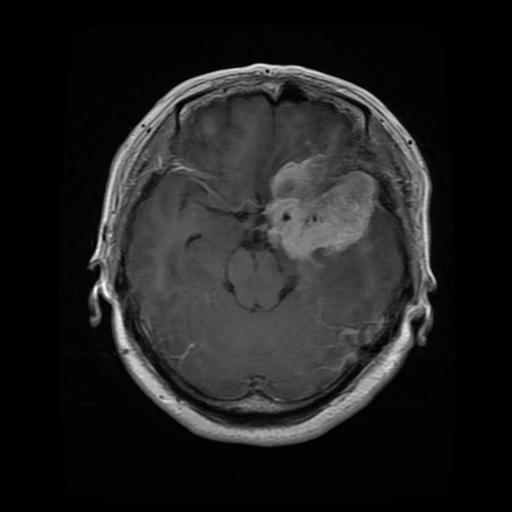Menigiomia_tumour: (264, 153, 377, 256)
